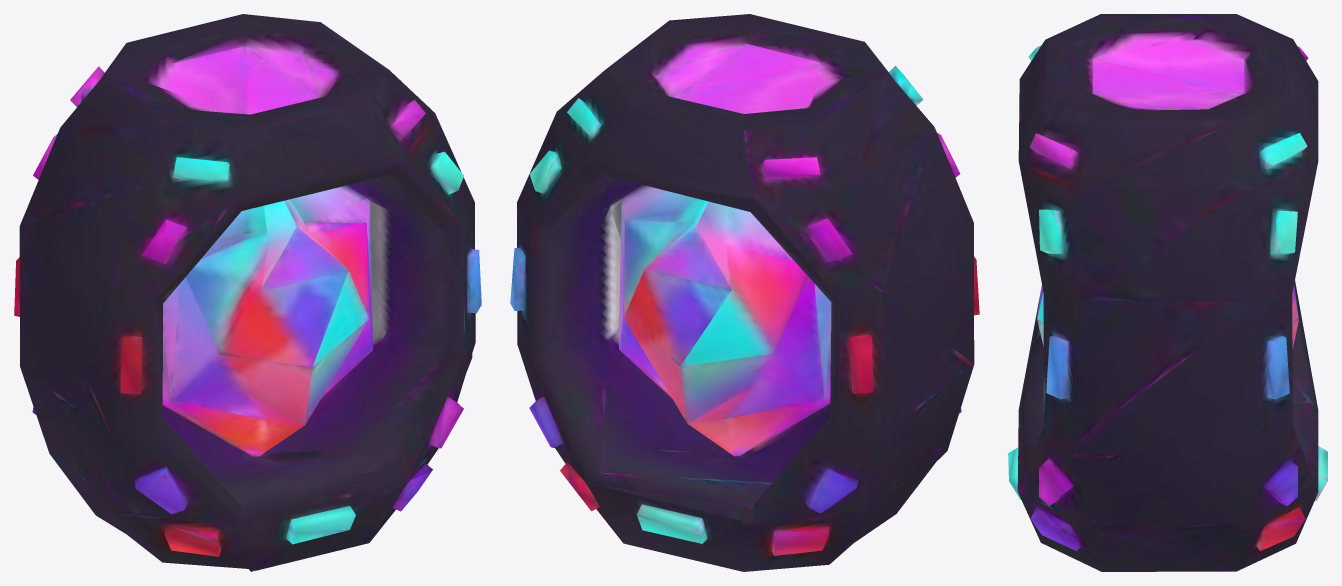
Rendered from energy-cell.glb.
3 renders of one model, left to right at view 1: azimuth 30°, elevation 25°; view 2: azimuth 150°, elevation 25°; view 3: azimuth 270°, elevation 25°, orthographic.
Parts seen in each view (by area): view 1: mesh_node; view 2: mesh_node; view 3: mesh_node.
Boxes of the visible parts, bbox=[...] form: mesh_node: bbox=[14, 14, 481, 571]; mesh_node: bbox=[510, 14, 979, 571]; mesh_node: bbox=[1008, 14, 1327, 571].
Bounding box in the file's own units: 0.1038 × 0.12 × 0.0777.
Materials: 1 (1 with a texture image).
